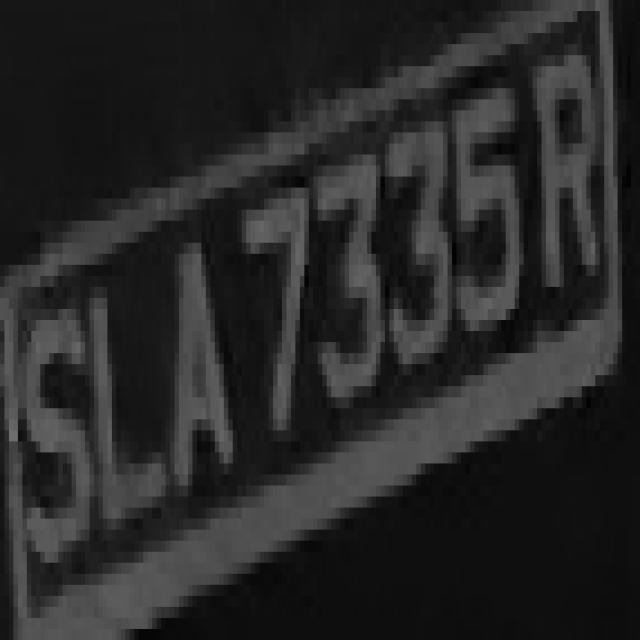3: (295, 110, 385, 497), (376, 110, 452, 398)
5: (443, 22, 528, 419)
7: (228, 132, 314, 518)
A: (156, 176, 242, 518)
L: (90, 242, 166, 540)
R: (533, 22, 613, 419)
S: (14, 265, 90, 607)
